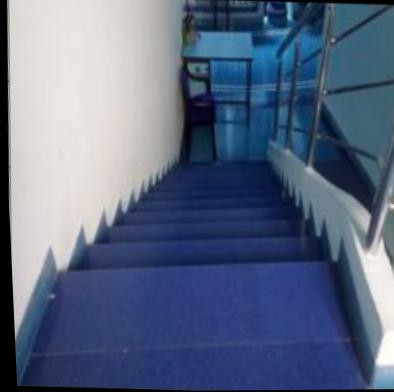Animal: (42, 183, 319, 296)
